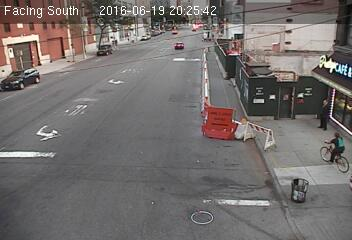neg: (318, 127, 350, 170)
pos: (311, 93, 337, 127)
